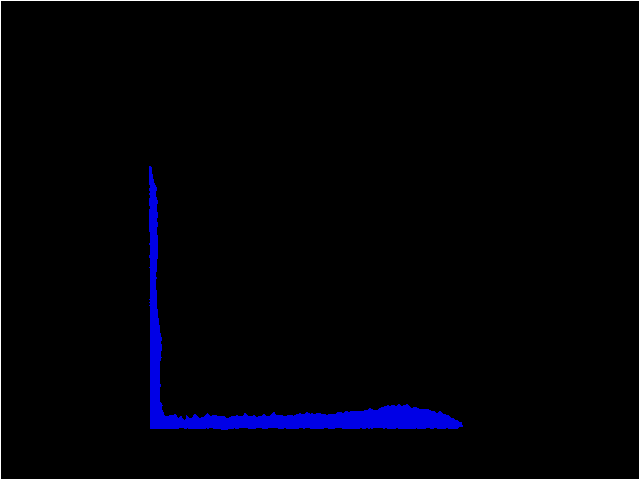defect: (148, 164, 464, 431)
